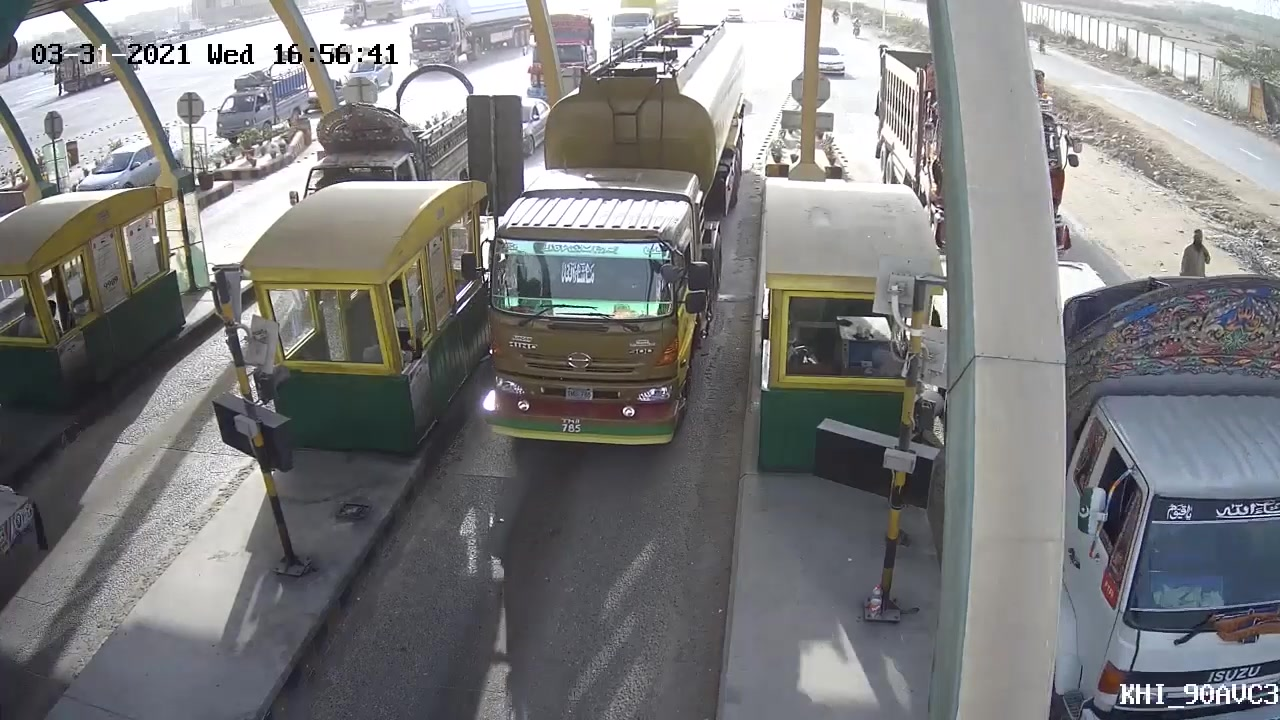F6: (461, 27, 748, 475)
